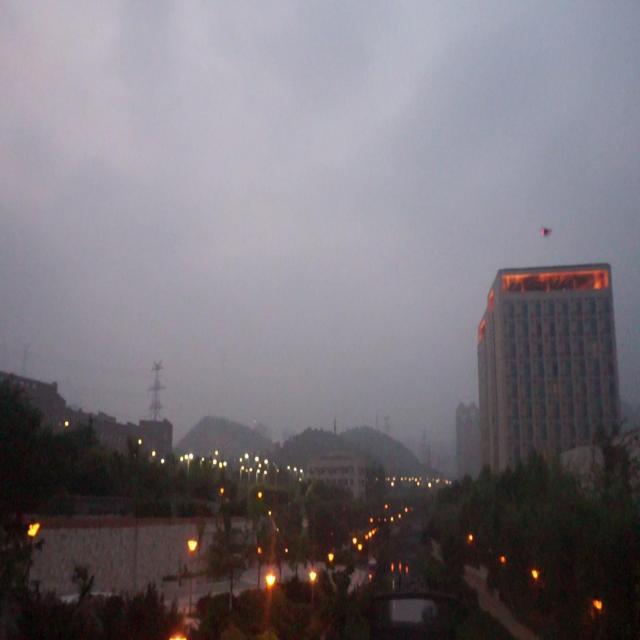UAV: (540, 226, 552, 238)
